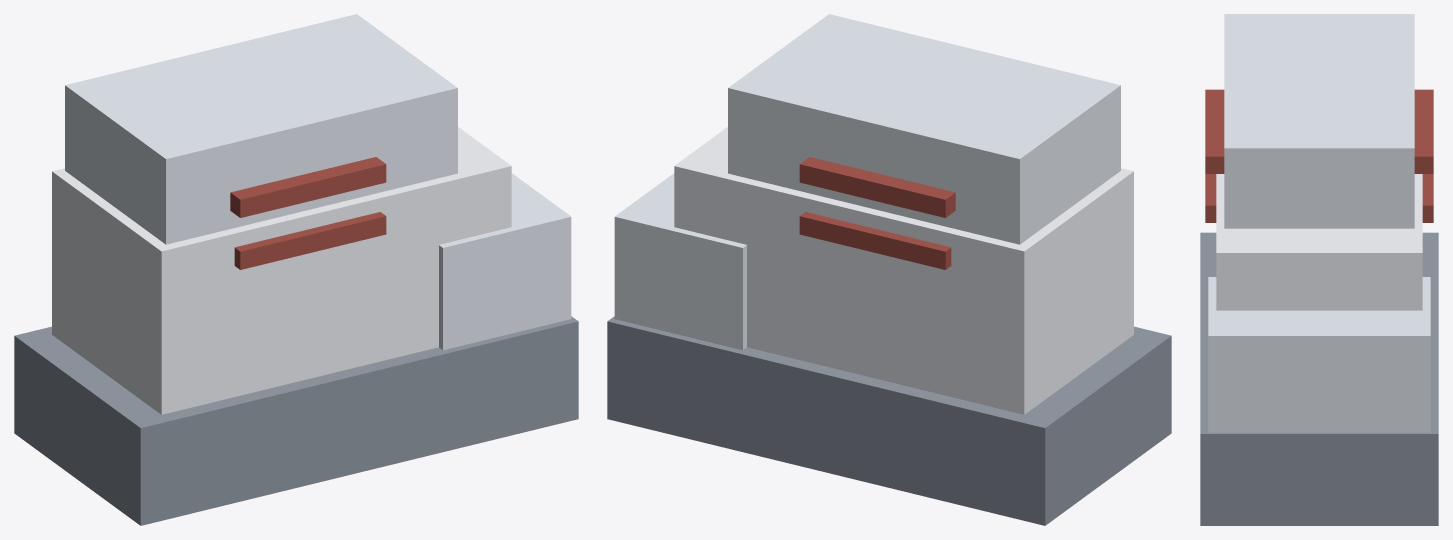
Rendered from snow_boot.fbx.
The picture shows the model from 3 angles, left to right: view 1: azimuth 30°, elevation 25°; view 2: azimuth 150°, elevation 25°; view 3: azimuth 270°, elevation 25°; orthographic projection. The views are drawn at different scales.
Visible parts, largest first — view 1: snow_boot; view 2: snow_boot; view 3: snow_boot.
Part boxes in pixels (left/top/right/bottom): snow_boot: left=14, top=14, right=578, bottom=525; snow_boot: left=607, top=14, right=1171, bottom=525; snow_boot: left=1200, top=14, right=1438, bottom=525.
Size of the model in its own units: 240 by 182 by 120.
